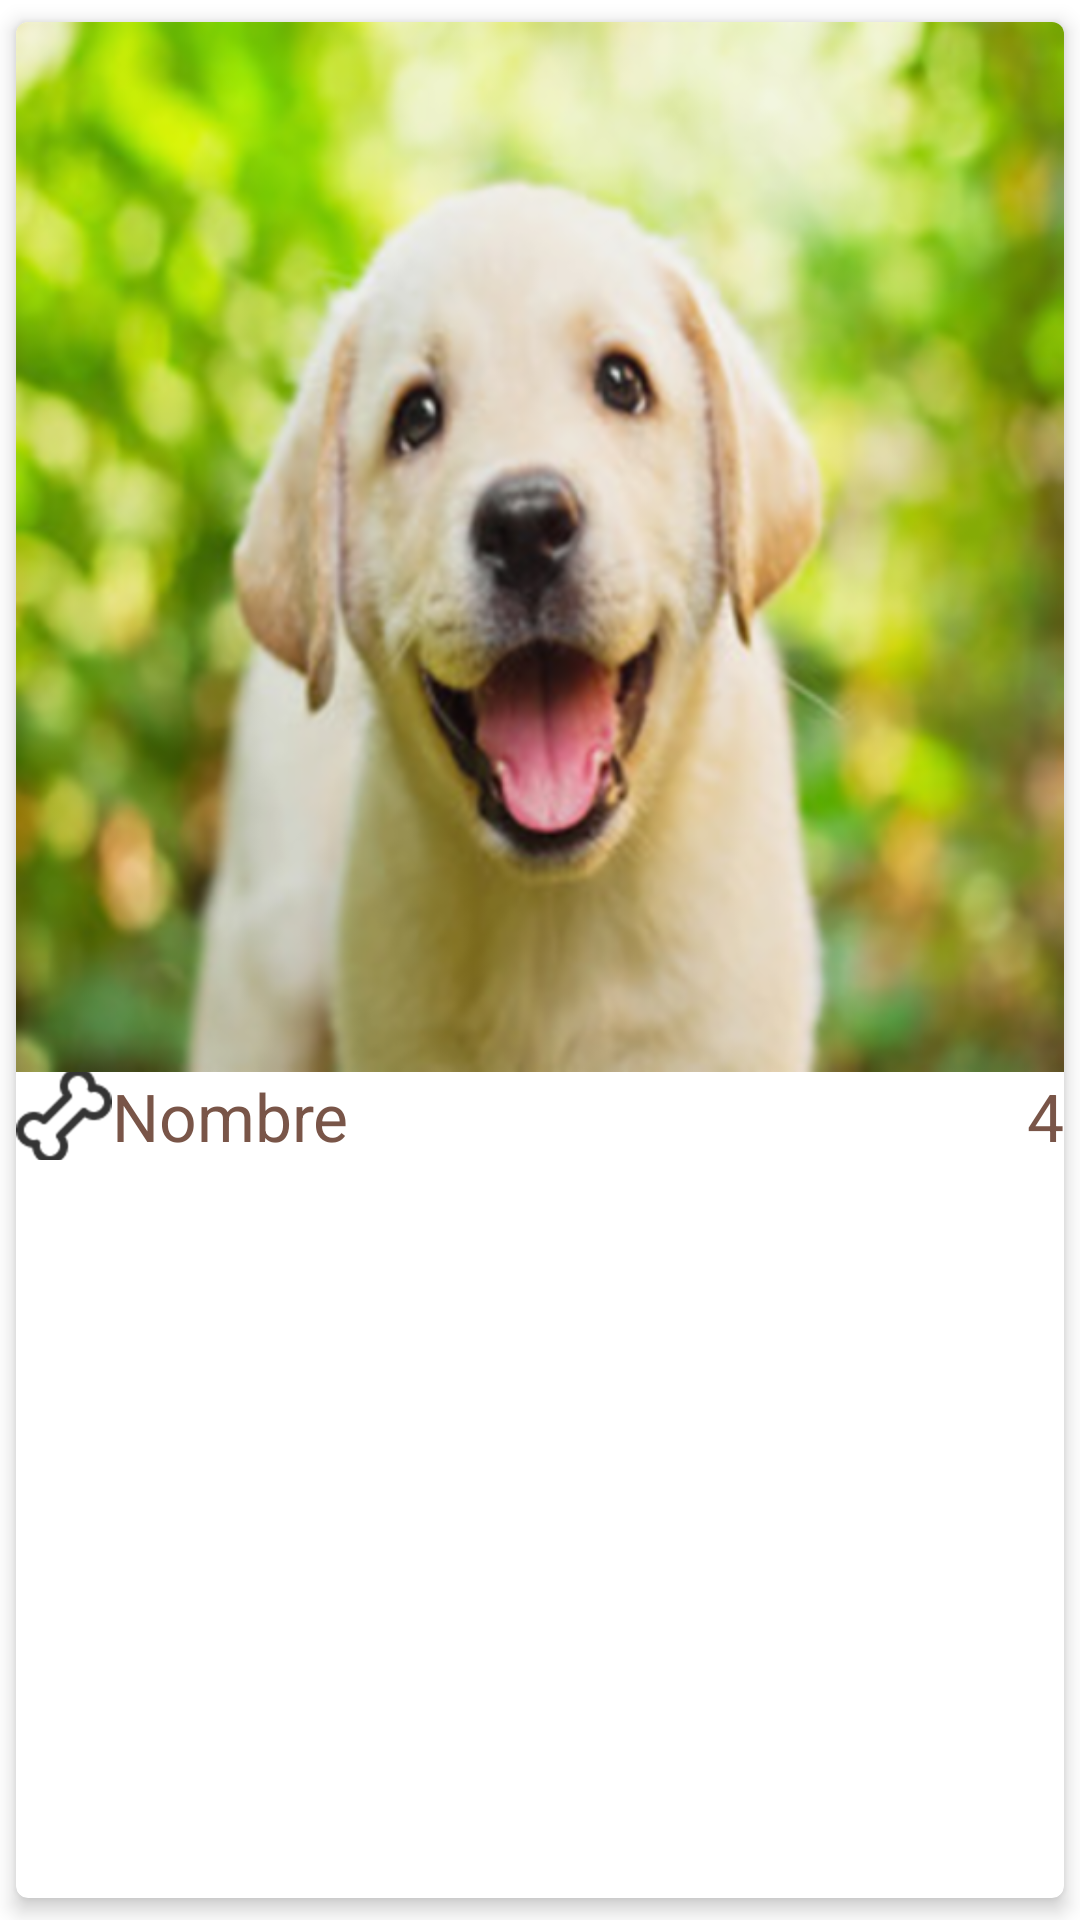

Where icons sit on this 1080px×1920px app screen, as (x1, y1, x2, y2):
hueso blanco: (16, 1072, 112, 1160)
